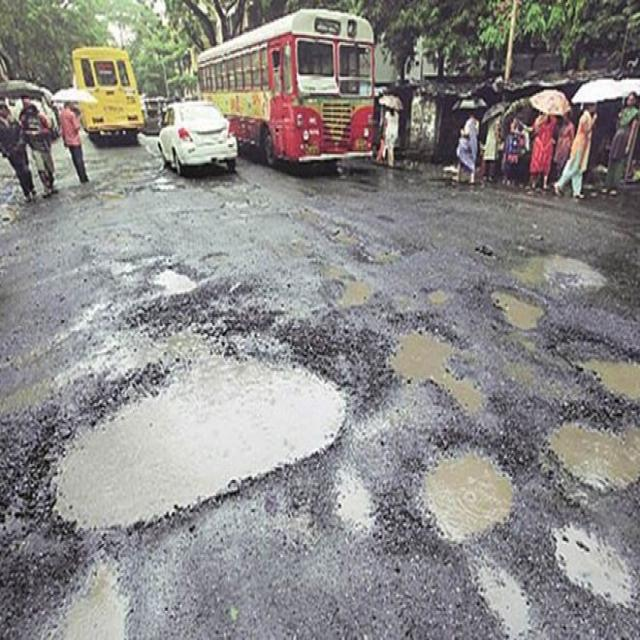Pothole: (377, 206, 640, 598), (39, 304, 361, 569)
